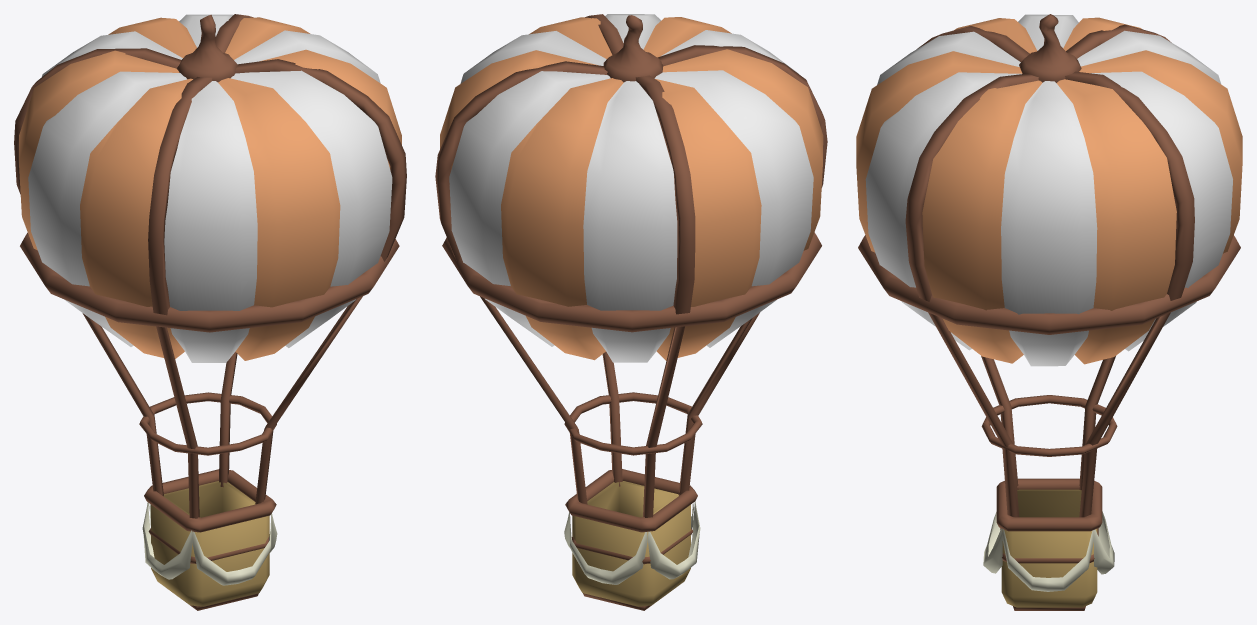
File: hot_air_balloon2.fbx
3 views of the same model, side by side, from view 1: azimuth 30°, elevation 25°; view 2: azimuth 150°, elevation 25°; view 3: azimuth 270°, elevation 25° (orthographic).
Visible parts, largest first — view 1: pTorus20; view 2: pTorus20; view 3: pTorus20.
Boxes of the visible parts, box(x1,y1,x2,y2) form: pTorus20: box(14, 14, 406, 610); pTorus20: box(435, 14, 827, 610); pTorus20: box(856, 14, 1242, 610).
Bounding box in the file's own units: 5.99 × 9.96 × 5.99.
